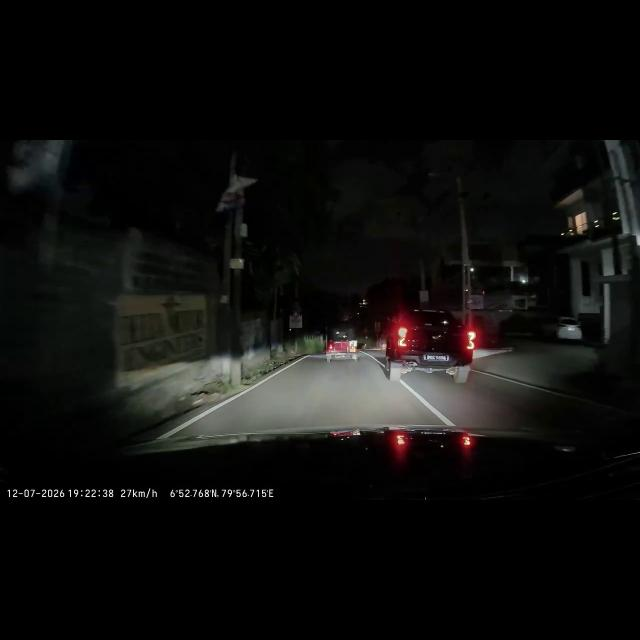car: (390, 318, 470, 374)
number_plate: (424, 354, 450, 362)
solid_line: (402, 384, 454, 424)
three_wheeler: (329, 328, 356, 362)
